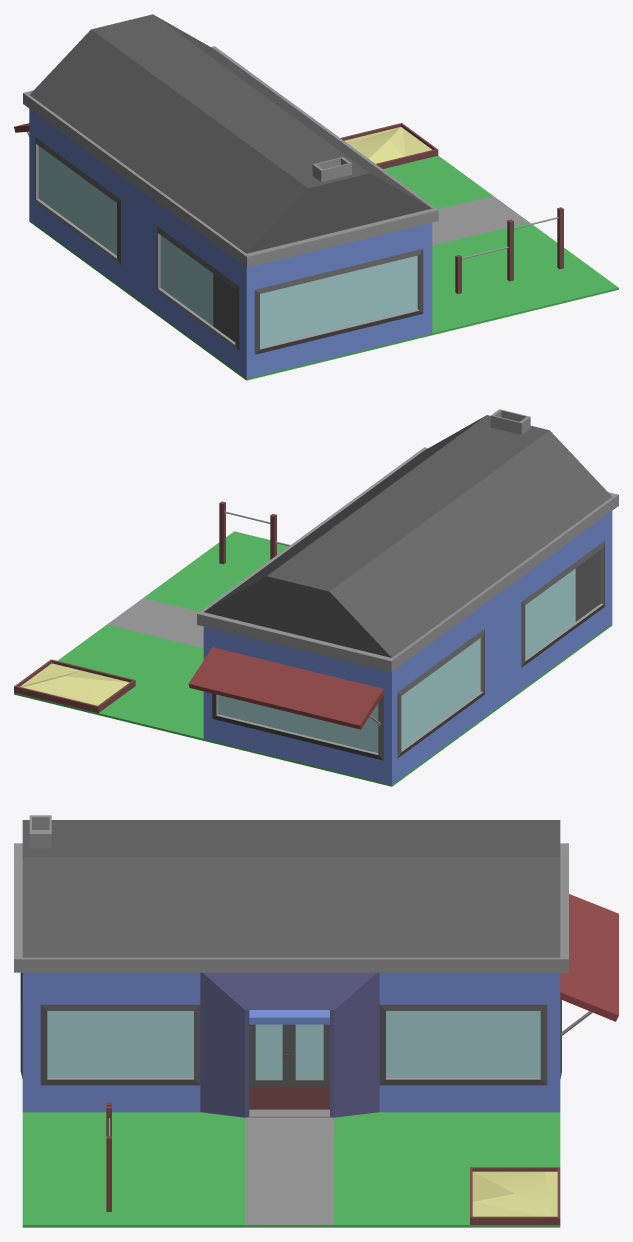
File: SChool (1).fbx
3 renders of one model, top to bottom at view 1: azimuth 30°, elevation 25°; view 2: azimuth 150°, elevation 25°; view 3: azimuth 270°, elevation 25°, orthographic. The views are drawn at different scales.
Visible parts, largest first — view 1: pCube6; view 2: pCube6; view 3: pCube6.
Part boxes in pixels (left/top/right/bottom): pCube6: left=14, top=14, right=618, bottom=380; pCube6: left=14, top=409, right=618, bottom=786; pCube6: left=14, top=815, right=618, bottom=1227.
Bounding box in the file's own units: 24.66 × 11.85 × 27.78.
